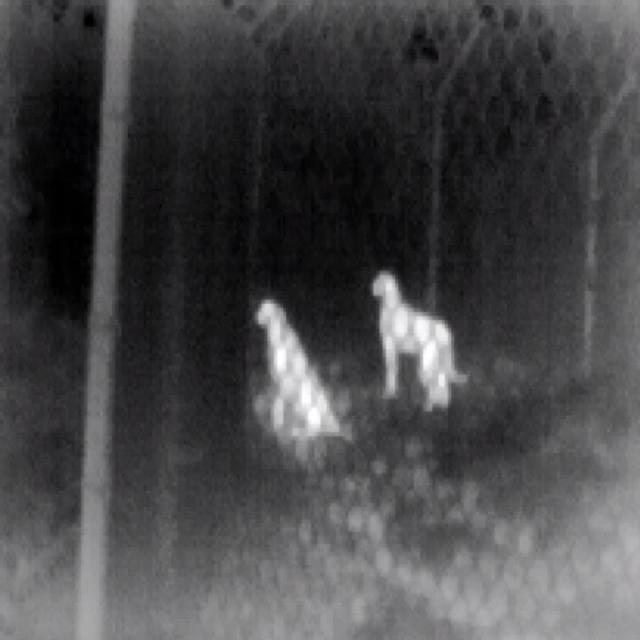cheetah: (374, 274, 454, 409), (257, 300, 338, 432)
